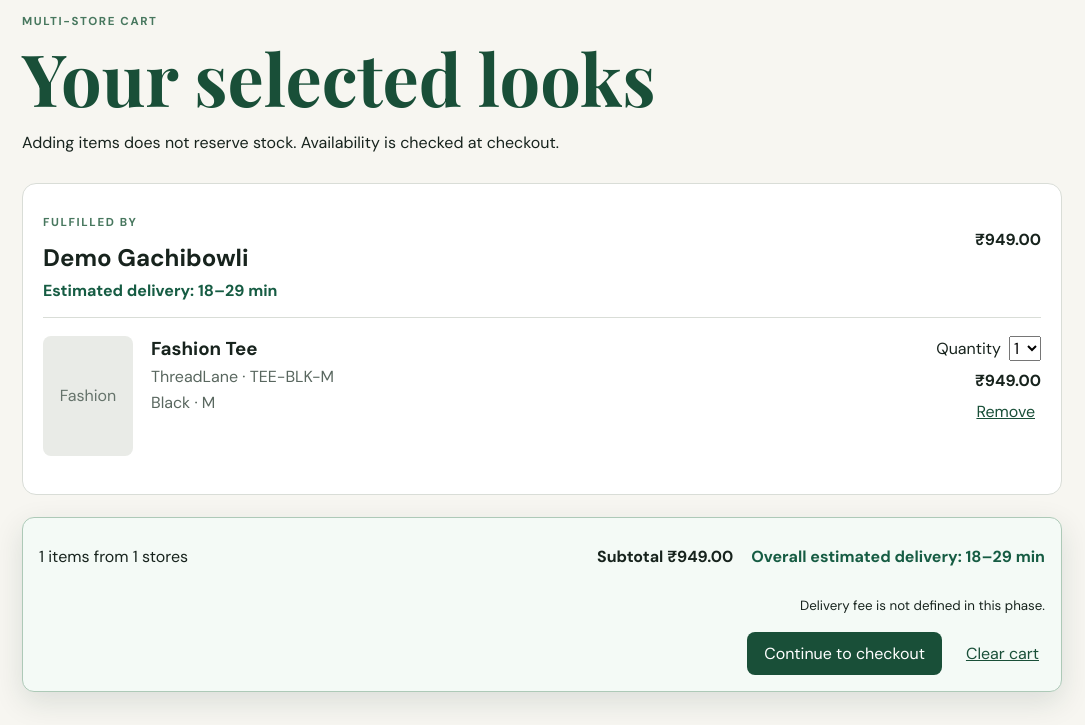
Test: commerce pages › renders grouped cart lines, updates quantity, and removes items
The width and height of the screenshot is (1085, 725).
Check: the heading "Demo Gachibowli" is shown, box [43,242,249,273]
Check: the text "Estimated delivery: 18–29 min" is shown, box [43,280,278,301]
Select "2" in the dropdown named "Quantity for Fashion Tee". click: (1025, 348)
box: [1009,336,1041,361]
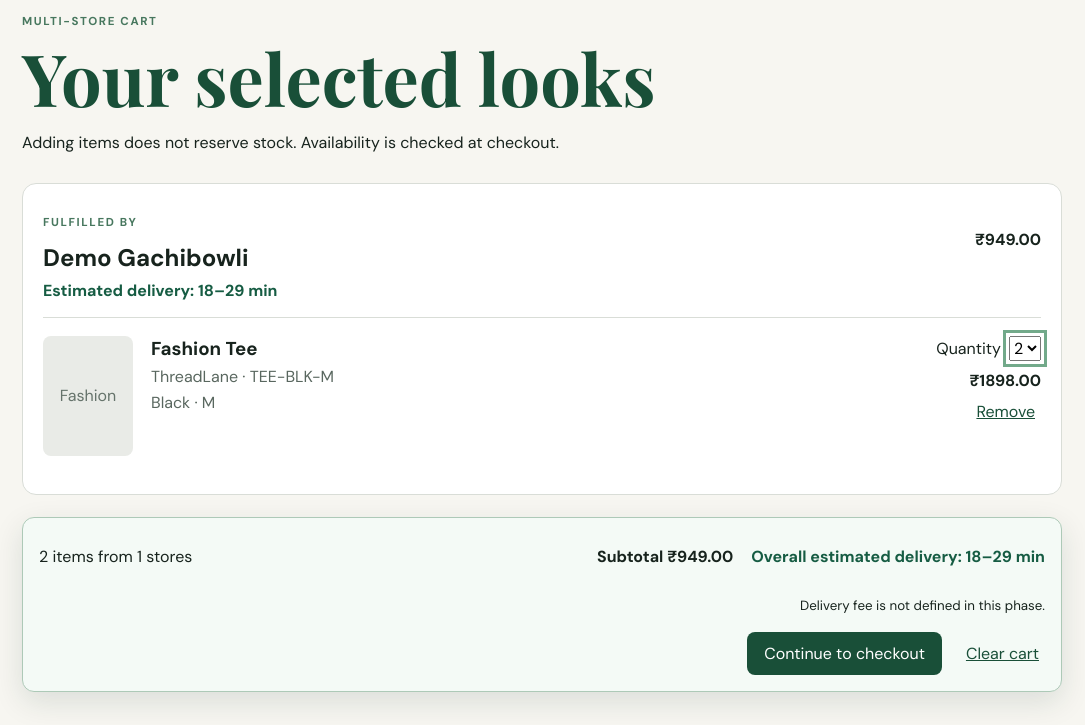
Check: the text "2 items from 1 stores" is shown, box [39,546,192,567]
Click the button "Remove". click: (1006, 411)
box: [970,400,1041,423]
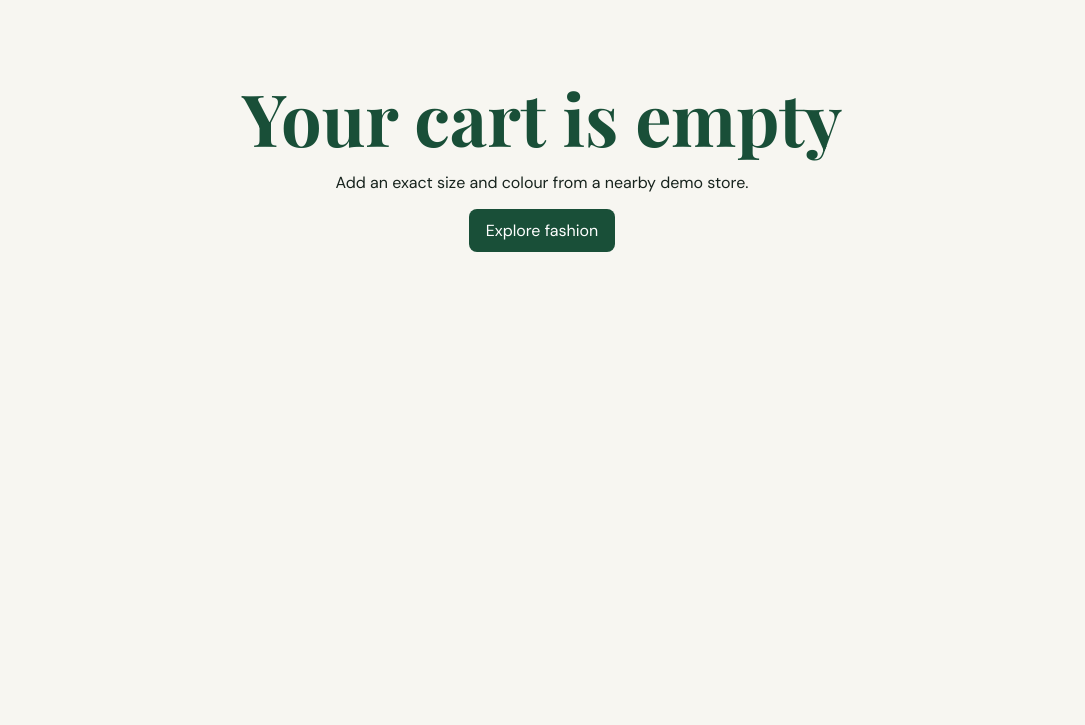
Check: the heading "Your cart is empty" is shown, box [242,69,842,165]
